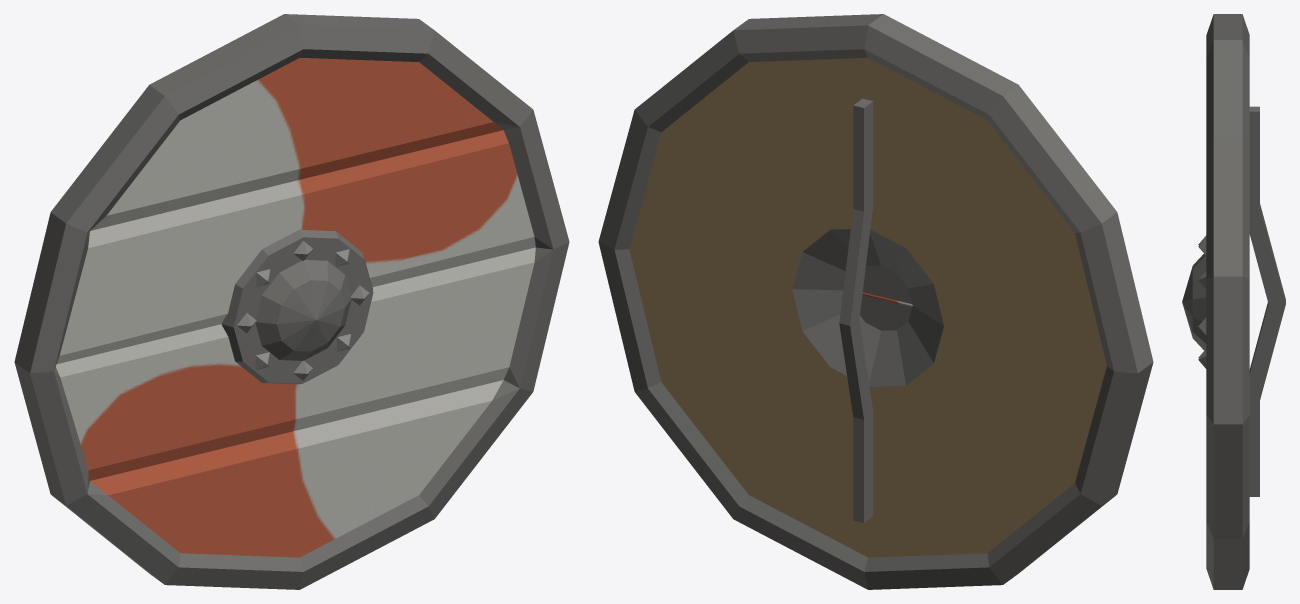
The model's file is SM_pwe_slavic_shield_03c.fbx.
3 views of the same model, side by side, from view 1: azimuth 30°, elevation 25°; view 2: azimuth 150°, elevation 25°; view 3: azimuth 270°, elevation 25° (orthographic). The views are drawn at different scales.
Visible parts, largest first — view 1: SM_pwe_slavic_shield_03c; view 2: SM_pwe_slavic_shield_03c; view 3: SM_pwe_slavic_shield_03c.
Part boxes in pixels (bbox=[...]): SM_pwe_slavic_shield_03c: bbox=[14, 14, 569, 589]; SM_pwe_slavic_shield_03c: bbox=[598, 14, 1153, 589]; SM_pwe_slavic_shield_03c: bbox=[1182, 14, 1285, 589].
Size of the model in its own units: 70.52 by 70.52 by 12.67.
